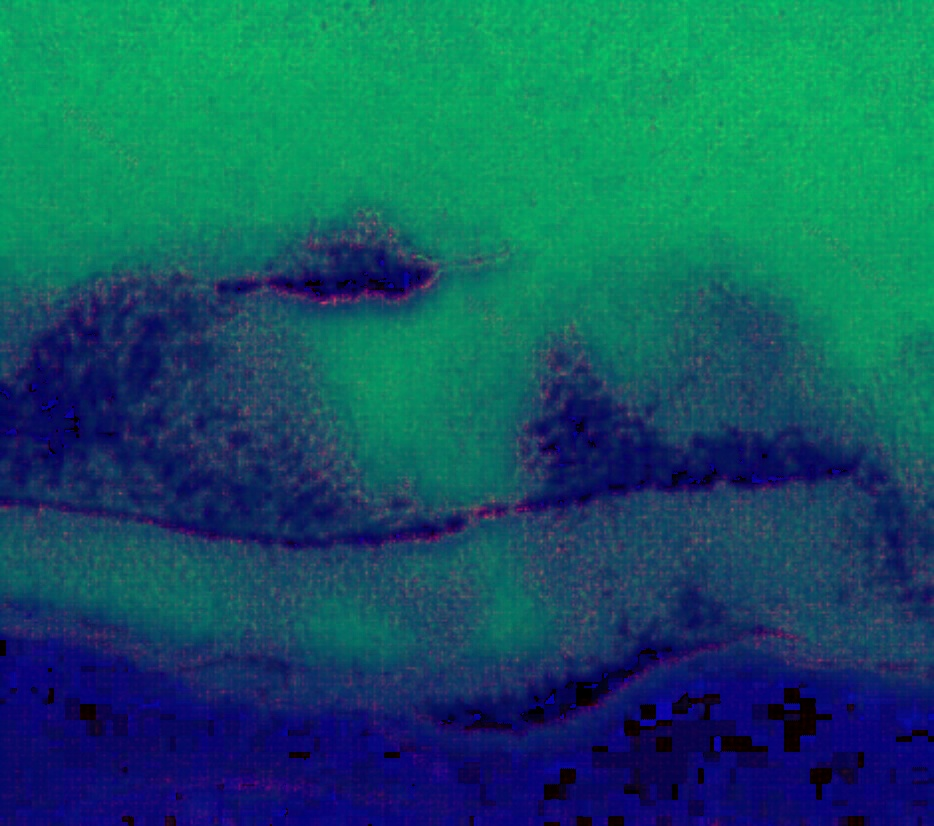rip_current: (213, 179, 598, 623)
